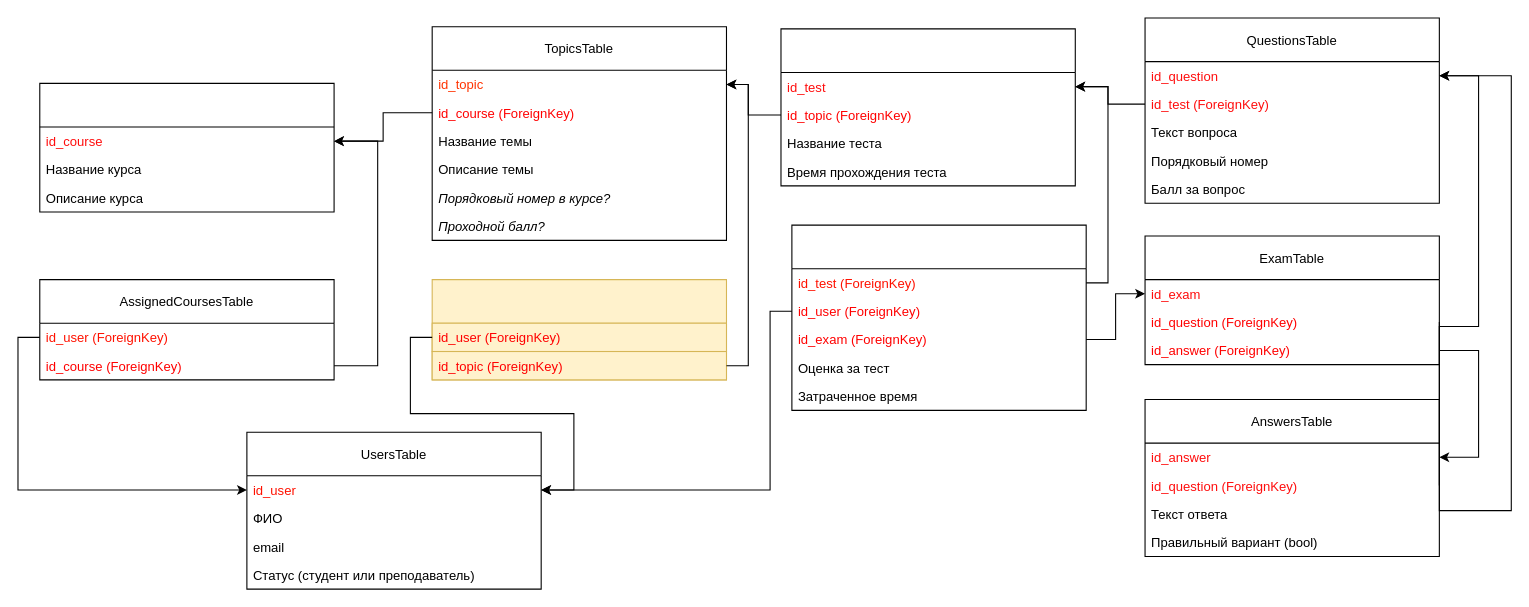
This 1529x607 diagram has some shape labels left out. The box of each missing label's shape, as (x1, y1, x2, y2) in pixels:
AssignedTopicsTable?: (431, 278, 726, 380)
CoursesTable: (39, 82, 334, 212)
ResultsTable: (791, 224, 1086, 410)
TestsTable: (780, 28, 1075, 186)
